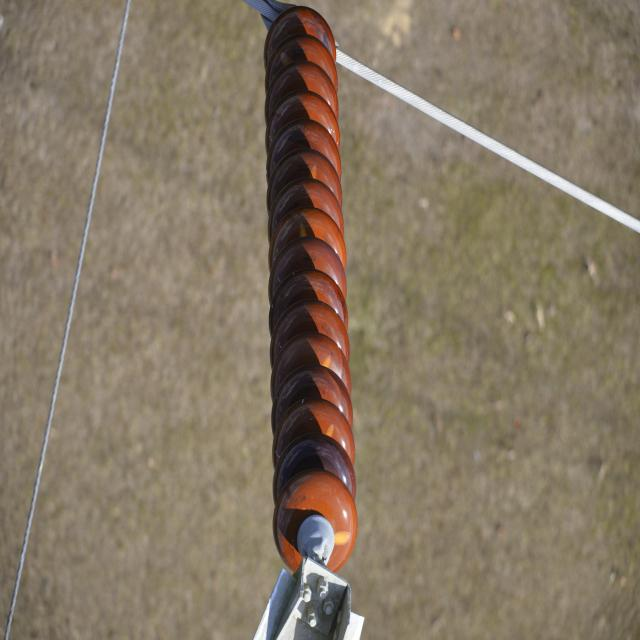insulator: (262, 5, 358, 571)
